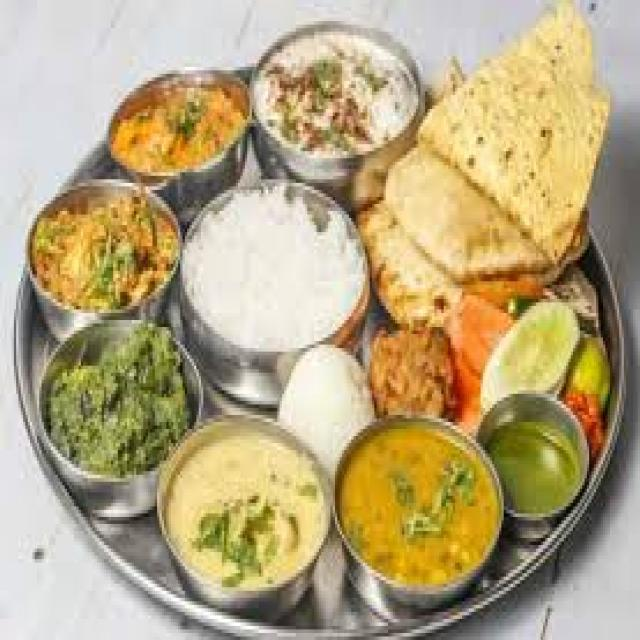dal: (340, 429, 486, 590), (27, 189, 172, 322), (106, 66, 254, 194)
papad: (426, 24, 605, 246), (367, 142, 548, 317)
rice: (180, 174, 365, 368)
veg-fry: (257, 11, 414, 170), (105, 67, 254, 200)
